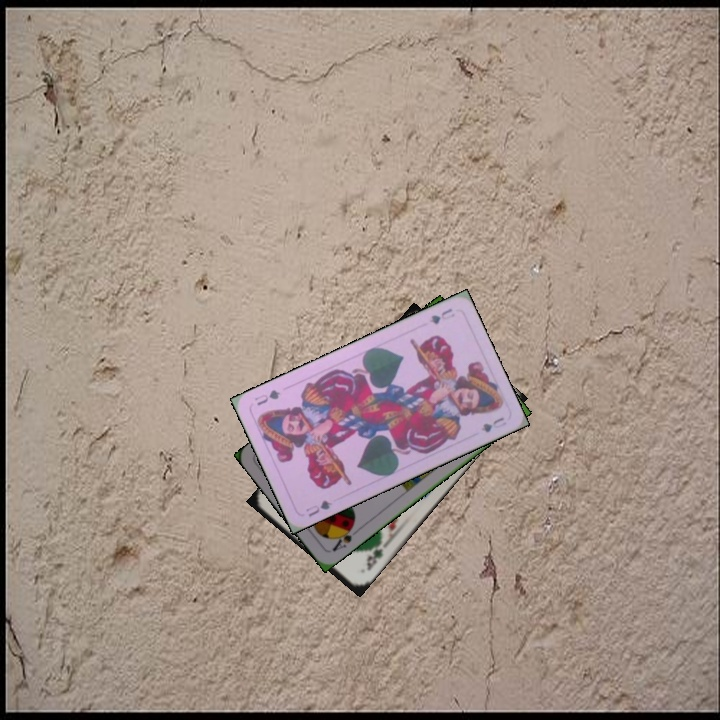GK: (362, 540, 385, 574)
GU: (302, 496, 334, 520), (425, 304, 457, 327)
SA: (328, 520, 362, 554)
